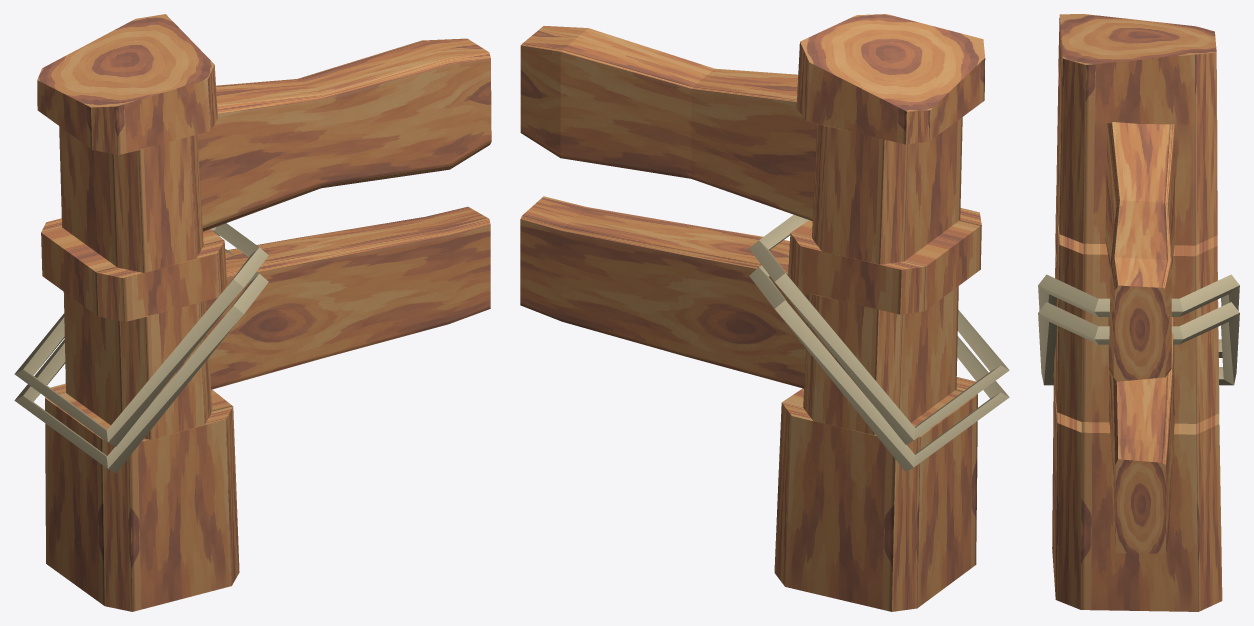
The model's file is fence_w_80_a.glb.
The picture shows the model from 3 angles, left to right: view 1: azimuth 30°, elevation 25°; view 2: azimuth 150°, elevation 25°; view 3: azimuth 270°, elevation 25°; orthographic projection. The views are drawn at different scales.
Parts seen in each view (by area): view 1: fence_w_80_a; view 2: fence_w_80_a; view 3: fence_w_80_a.
Part boxes in pixels (left/top/right/bottom): fence_w_80_a: left=14, top=14, right=491, bottom=611; fence_w_80_a: left=520, top=14, right=1009, bottom=611; fence_w_80_a: left=1038, top=14, right=1239, bottom=611.
Size of the model in its own units: 0.9954 by 1.19 by 0.3989.
Materials: 1 (1 with a texture image).
